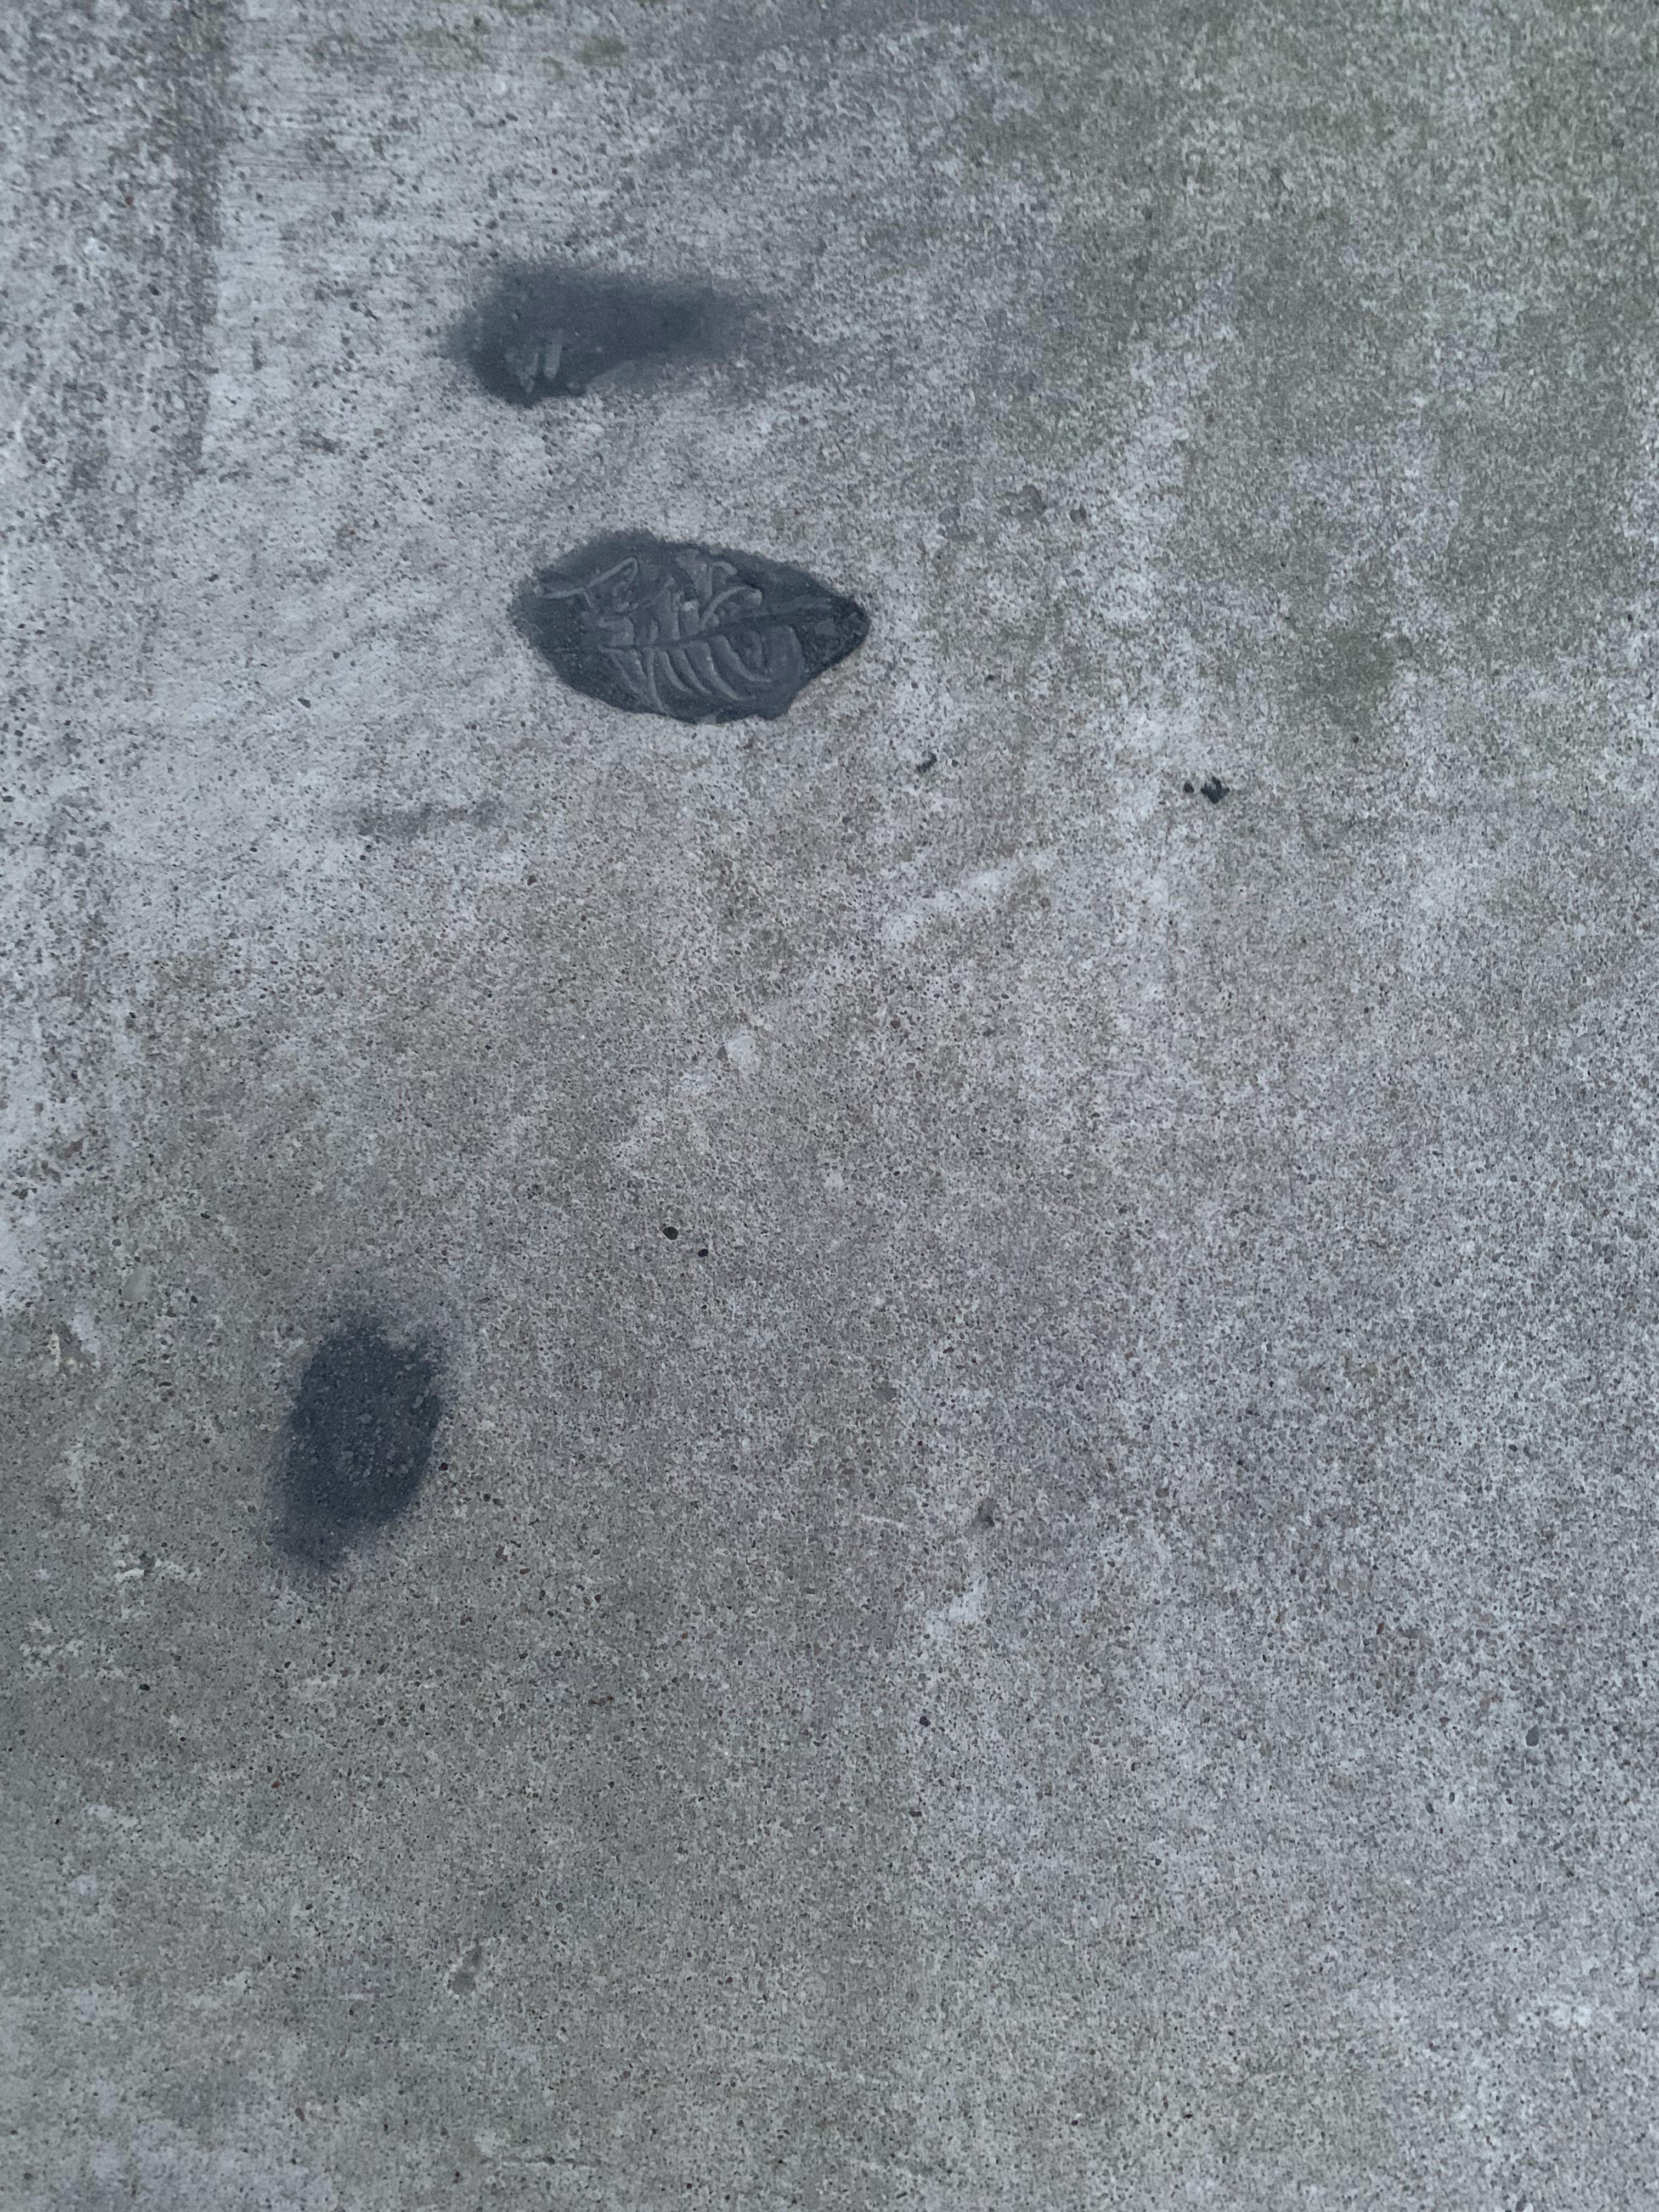grey spot: (509, 517, 877, 728), (444, 251, 791, 413), (267, 1301, 450, 1602)
